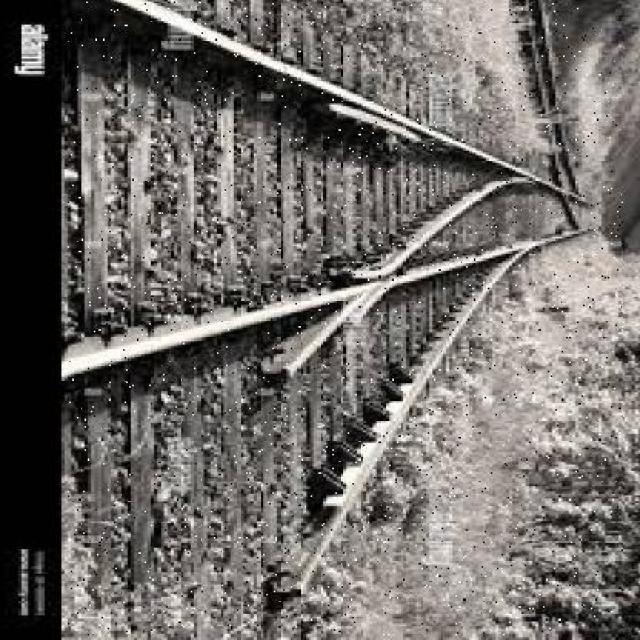rail: (67, 3, 622, 636)
